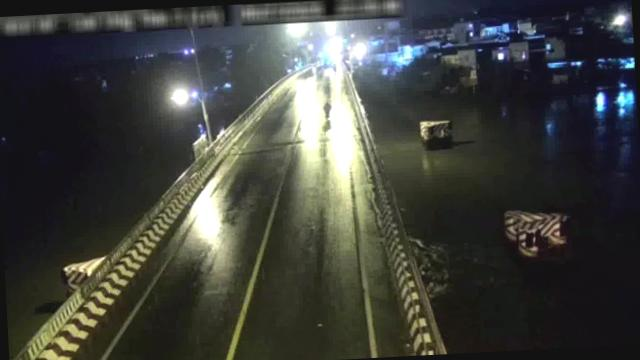Bike: (320, 98, 333, 120)
